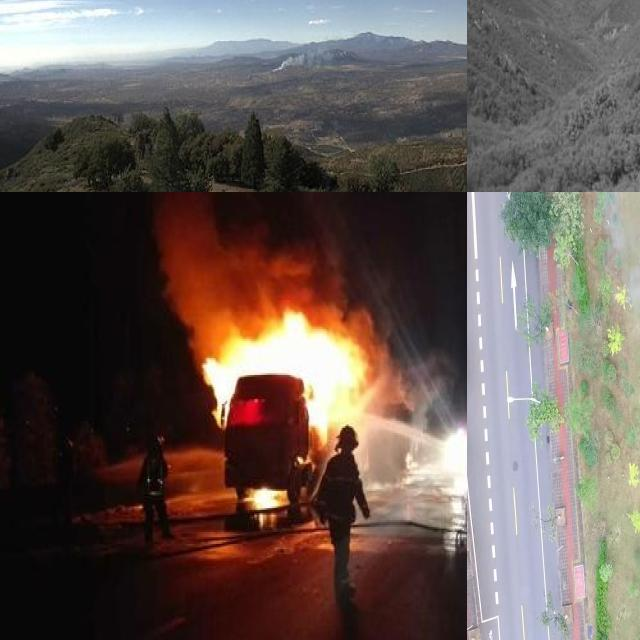fire: (208, 318, 360, 434)
smoke: (154, 192, 382, 342), (266, 39, 349, 74), (580, 192, 624, 224)
